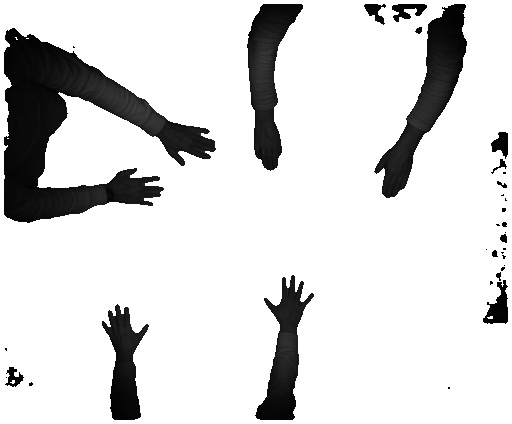hand: (264, 272, 319, 326), (368, 144, 417, 199), (102, 304, 151, 354), (165, 121, 215, 167), (113, 169, 167, 207), (249, 122, 287, 175)
